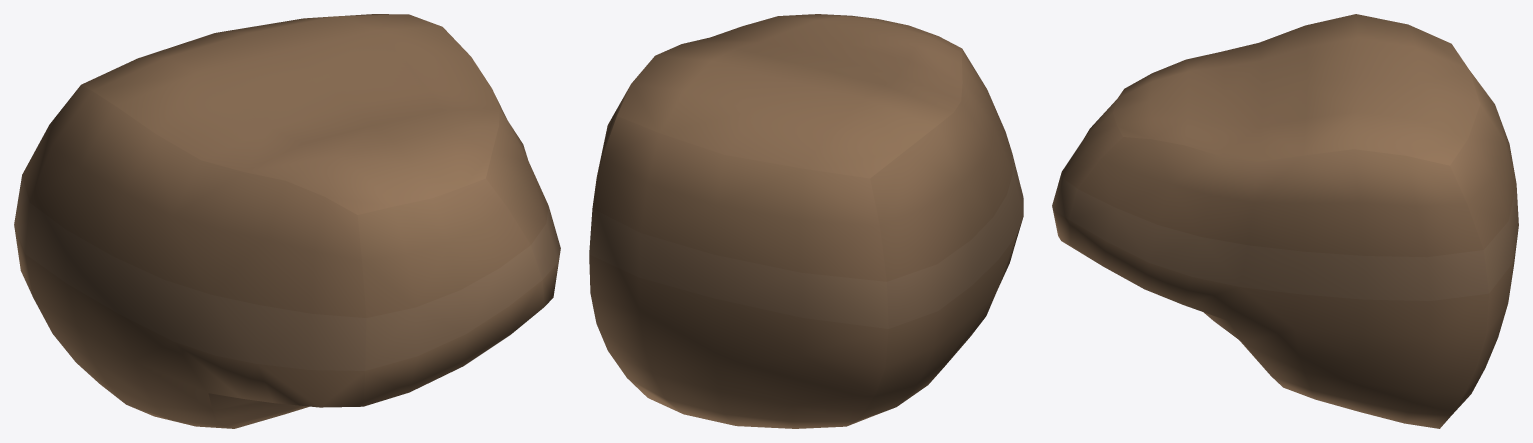
The model's file is SandstonePebble.004.glb.
The picture shows the model from 3 angles, left to right: view 1: azimuth 30°, elevation 25°; view 2: azimuth 150°, elevation 25°; view 3: azimuth 270°, elevation 25°; orthographic projection. The views are drawn at different scales.
Visible parts, largest first — view 1: SandstonePebble.004; view 2: SandstonePebble.004; view 3: SandstonePebble.004.
Boxes of the visible parts, box(x1,y1,x2,y2) form: SandstonePebble.004: box(14, 14, 560, 428); SandstonePebble.004: box(589, 14, 1023, 428); SandstonePebble.004: box(1052, 14, 1518, 428).
Size of the model in its own units: 9.02 by 7.73 by 10.58.
